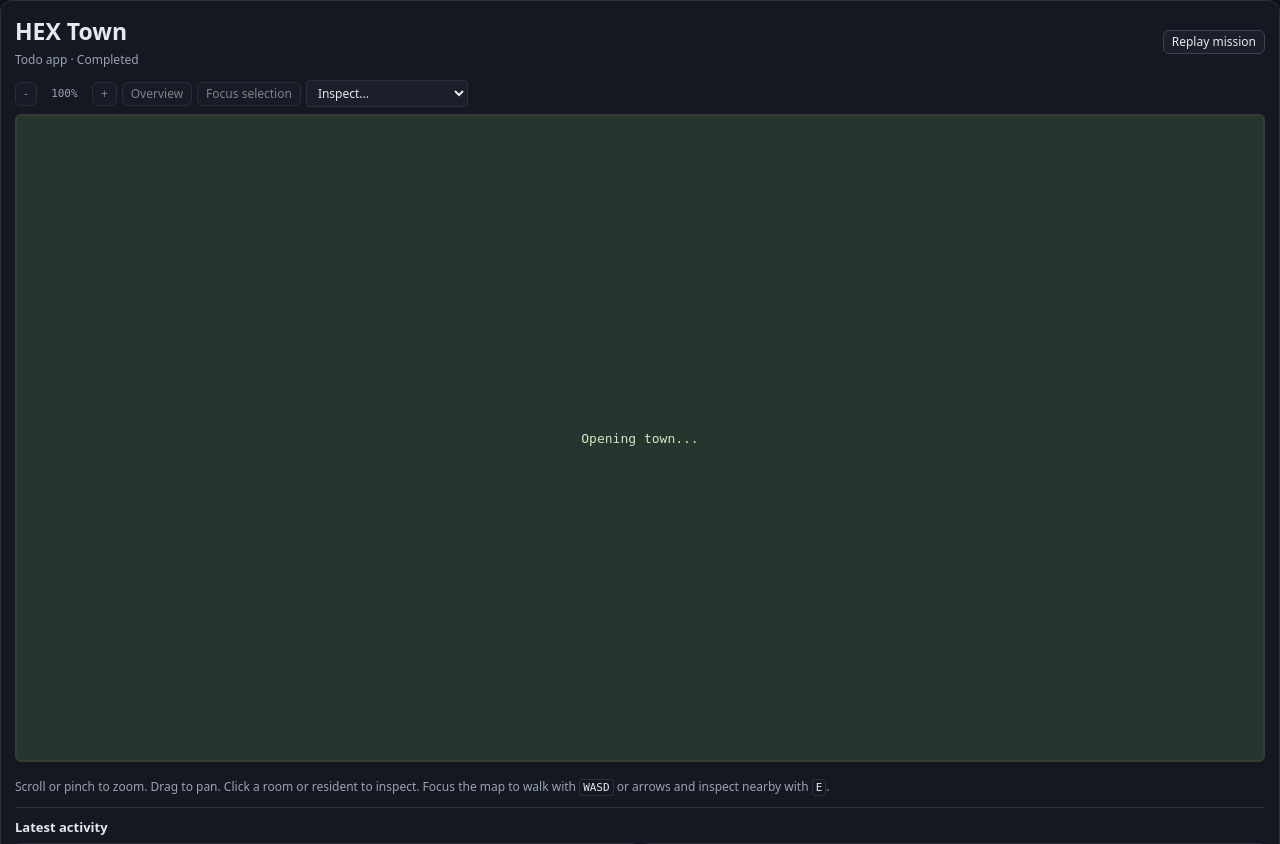
Test: Town › can inspect an earlier replay step and return to the latest mission activity
Select "Build Workshop" in the dropdown named "Inspect a room or resident": (387, 94) [306, 80, 468, 107]
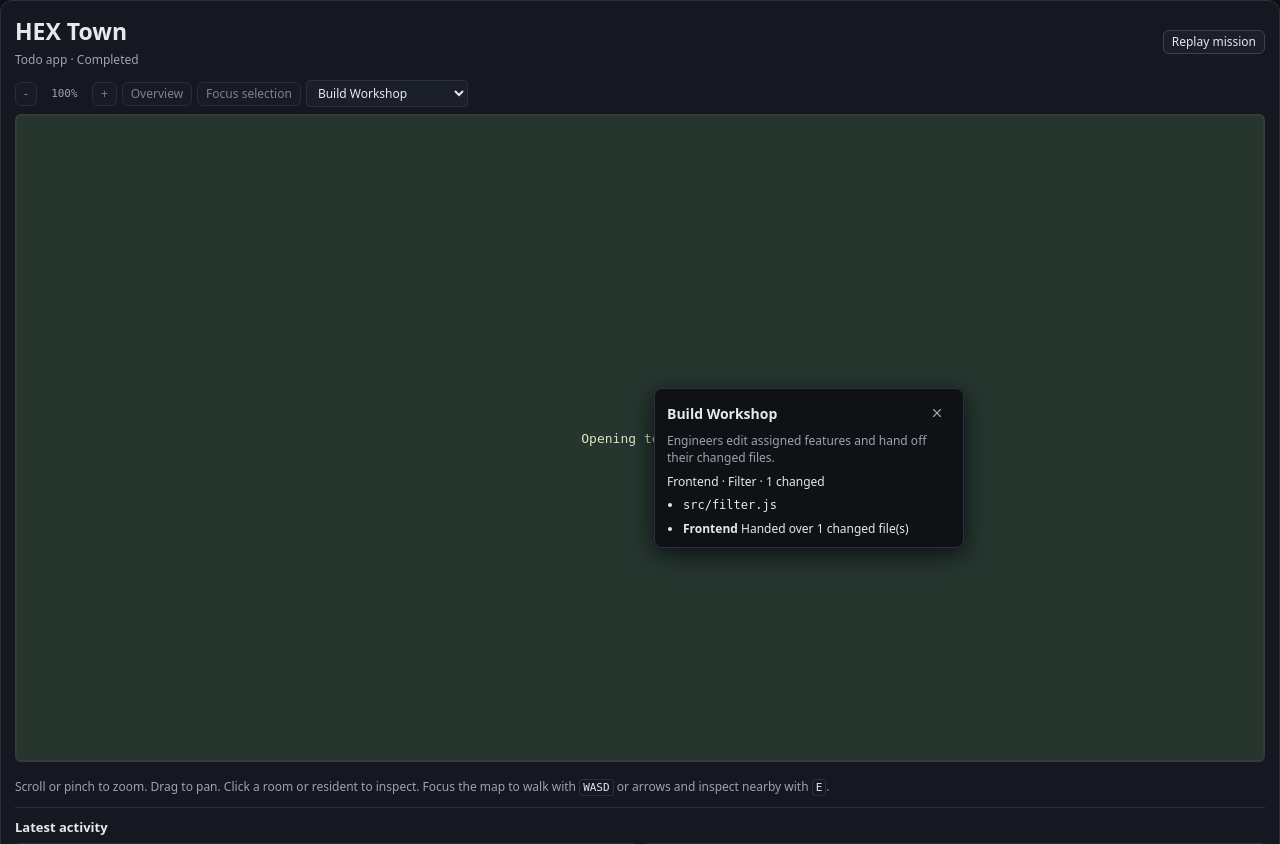
Result: the text "Frontend · Filter · 1 changed" is shown at [667, 473, 825, 490]
Click the button "Replay mission": (1214, 42) [1163, 30, 1265, 54]
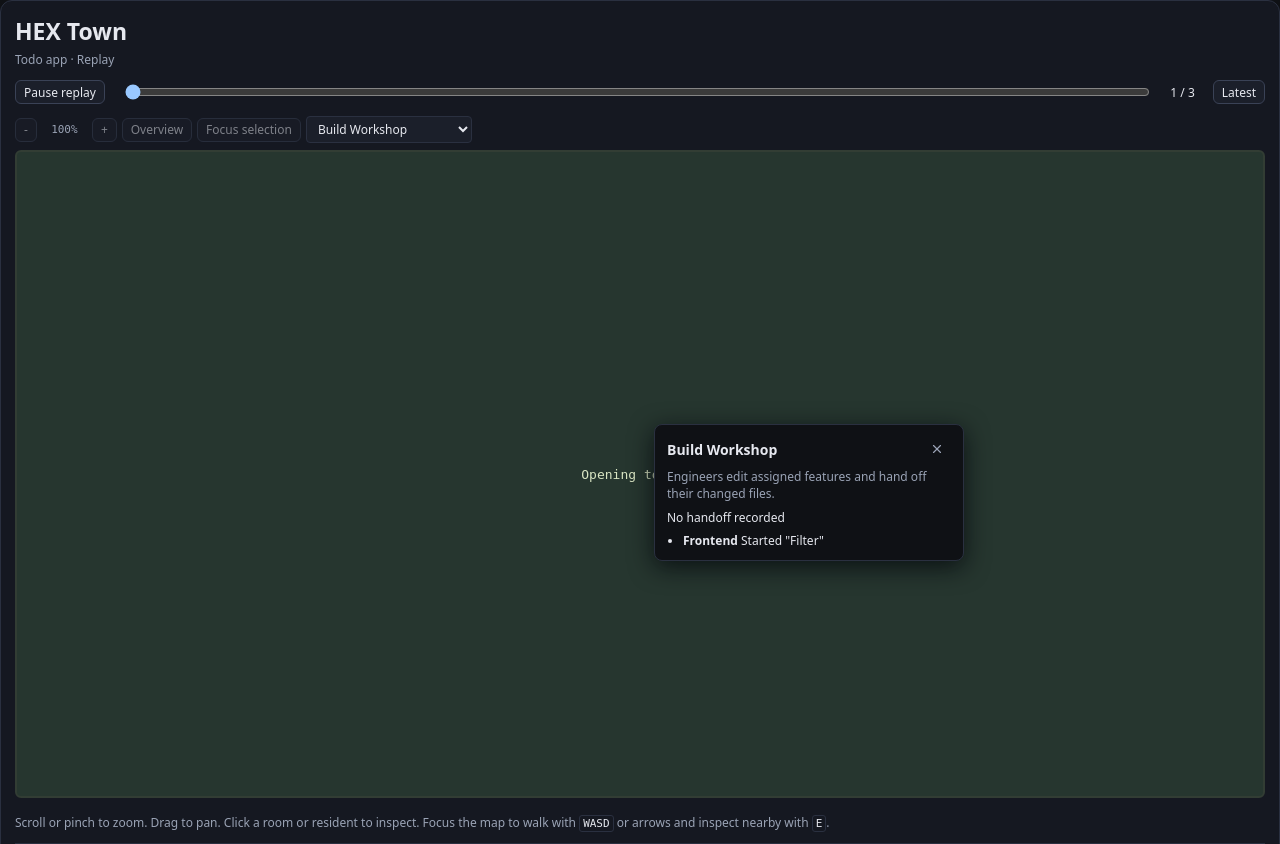
Result: the slider named "Replay position" holds "1"
Set the slider named "Replay position" to "2": (638, 92) [125, 84, 1150, 100]
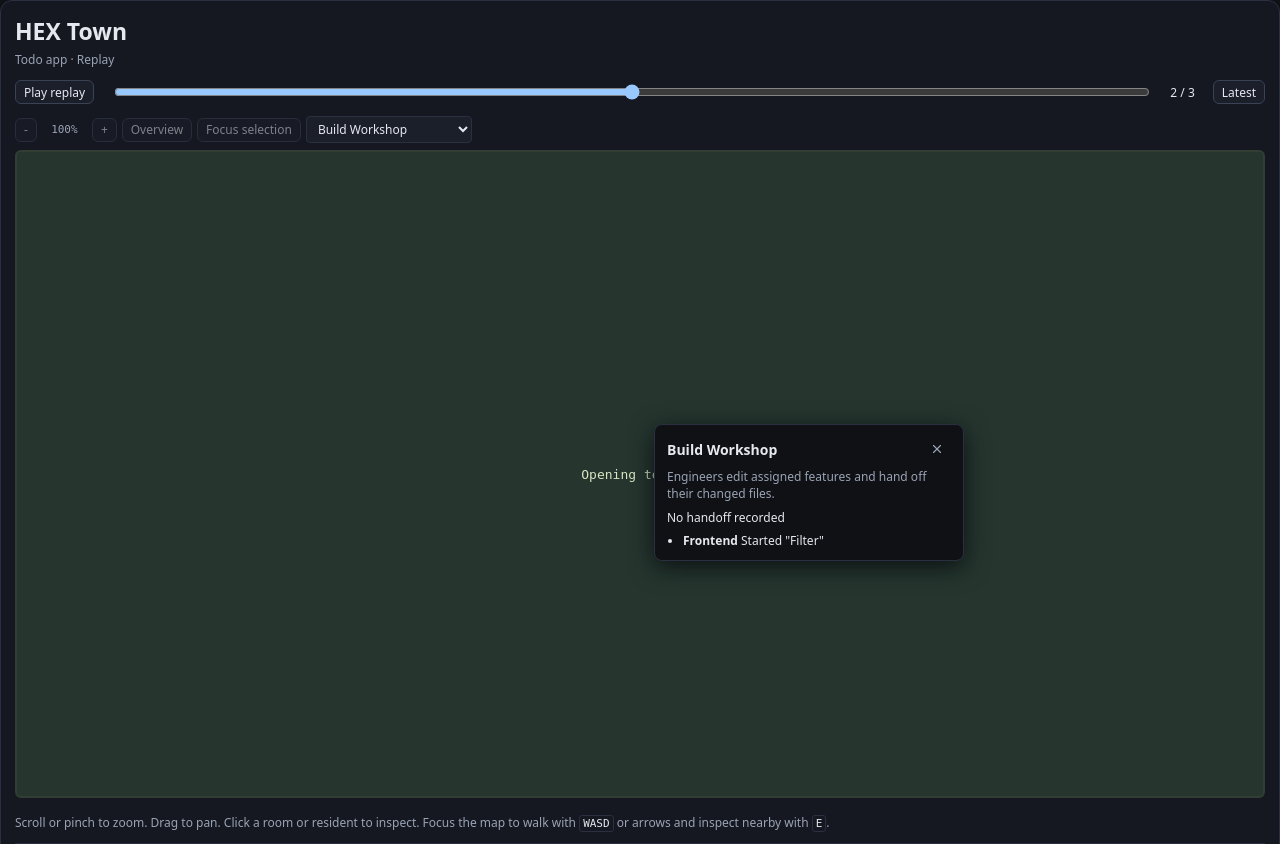
Result: the text "No handoff recorded" is shown at [667, 509, 785, 526]
Click the button "Latest": (1239, 92) [1213, 80, 1265, 104]
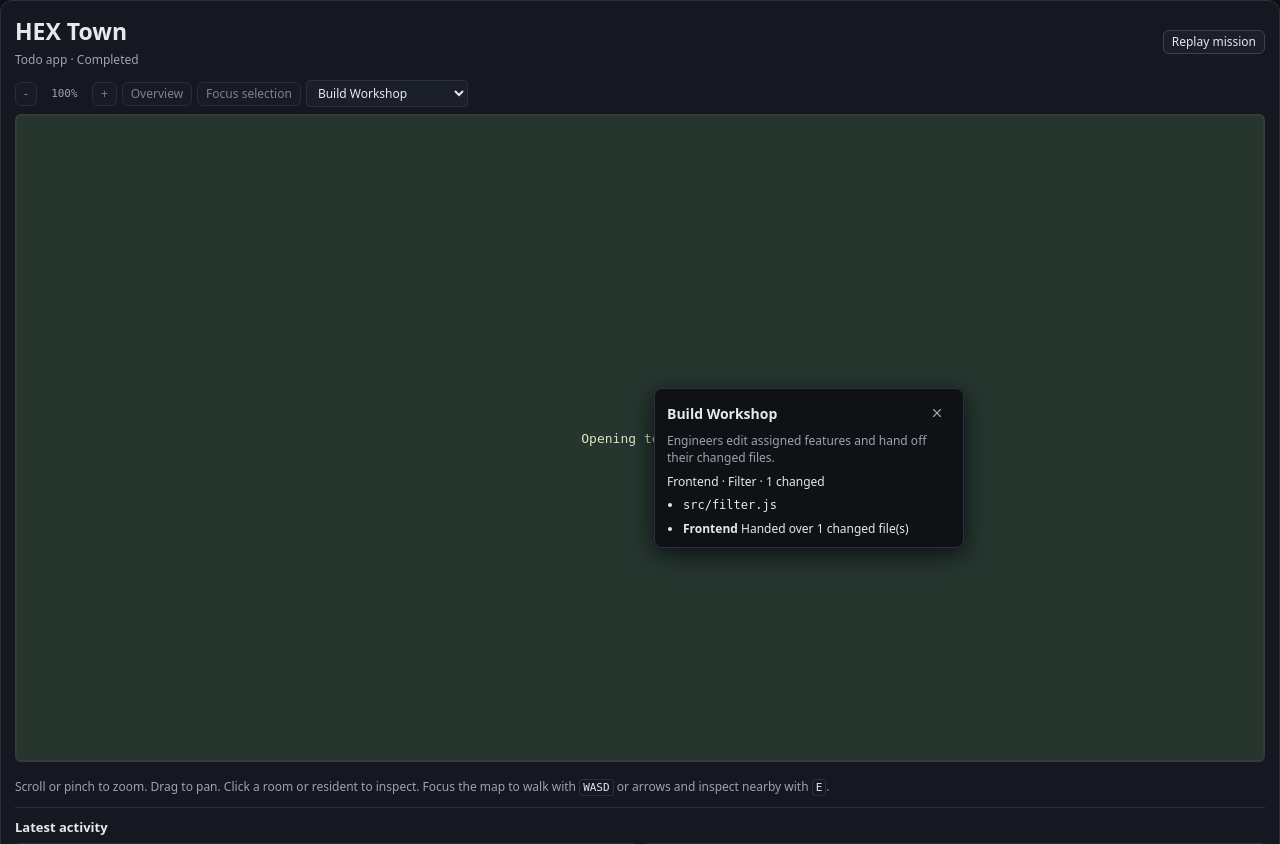
Result: the text "Frontend · Filter · 1 changed" is shown at [667, 473, 825, 490]
